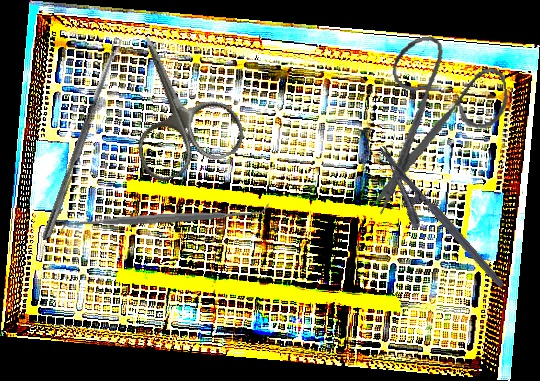Iris Scissors: (348, 26, 522, 219), (98, 17, 251, 187)
Needle Holder: (359, 143, 506, 306)
Spatula Surgical: (60, 201, 271, 235)
Surgical Spoon: (41, 36, 124, 243)
